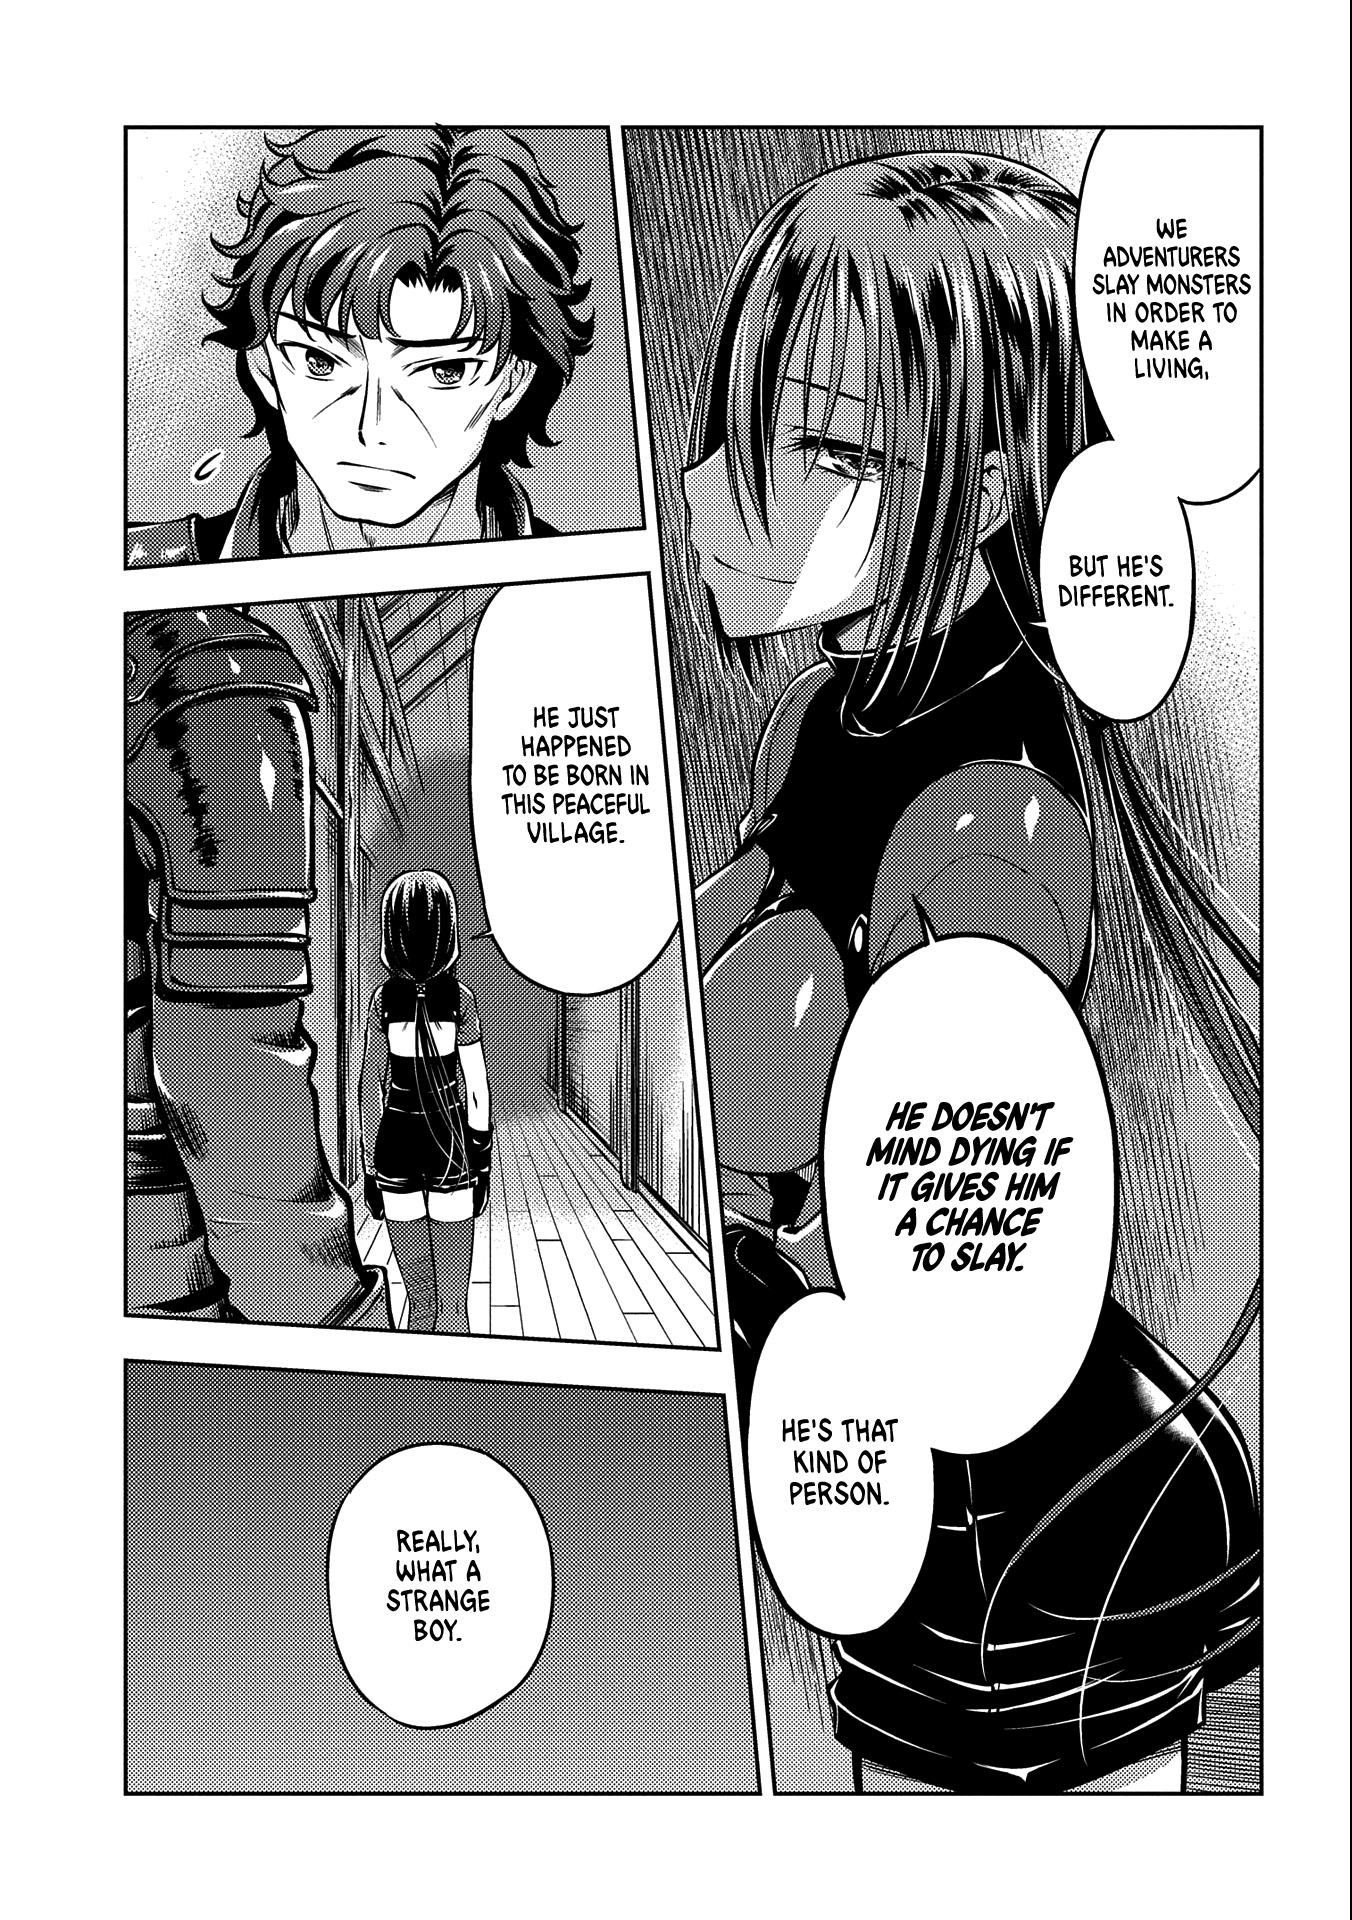Bubble: (814, 928, 1124, 1305), (465, 565, 686, 998), (323, 1437, 559, 1734), (1068, 116, 1269, 443), (743, 1402, 941, 1642), (1034, 496, 1201, 724)
